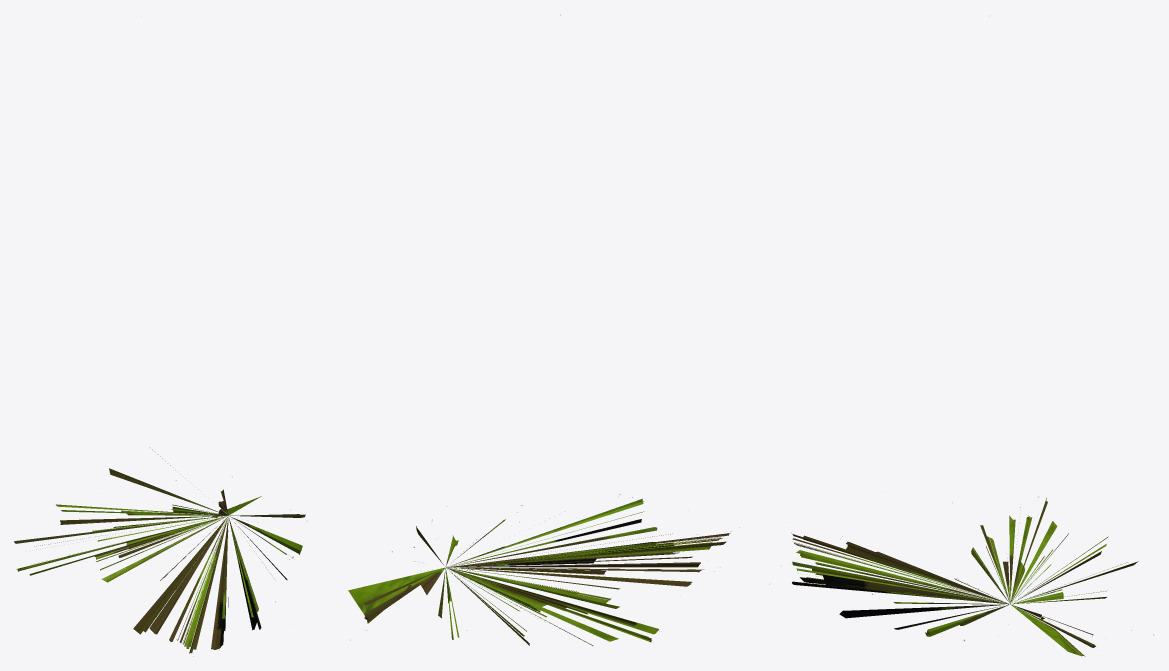
File: combat_enemy_totem_01.glb
3 renders of one model, left to right at view 1: azimuth 30°, elevation 25°; view 2: azimuth 150°, elevation 25°; view 3: azimuth 270°, elevation 25°, orthographic. The views are drawn at different scales.
Parts seen in each view (by area): view 1: geometry_0; view 2: geometry_0; view 3: geometry_0.
Boxes of the visible parts, x1,y1,x2,y2 form: geometry_0: (14, 452, 305, 656); geometry_0: (348, 15, 739, 645); geometry_0: (769, 497, 1153, 656).
Size of the model in its own units: 0.3055 by 0.6211 by 0.3719.
Materials: 1 (1 with a texture image).
